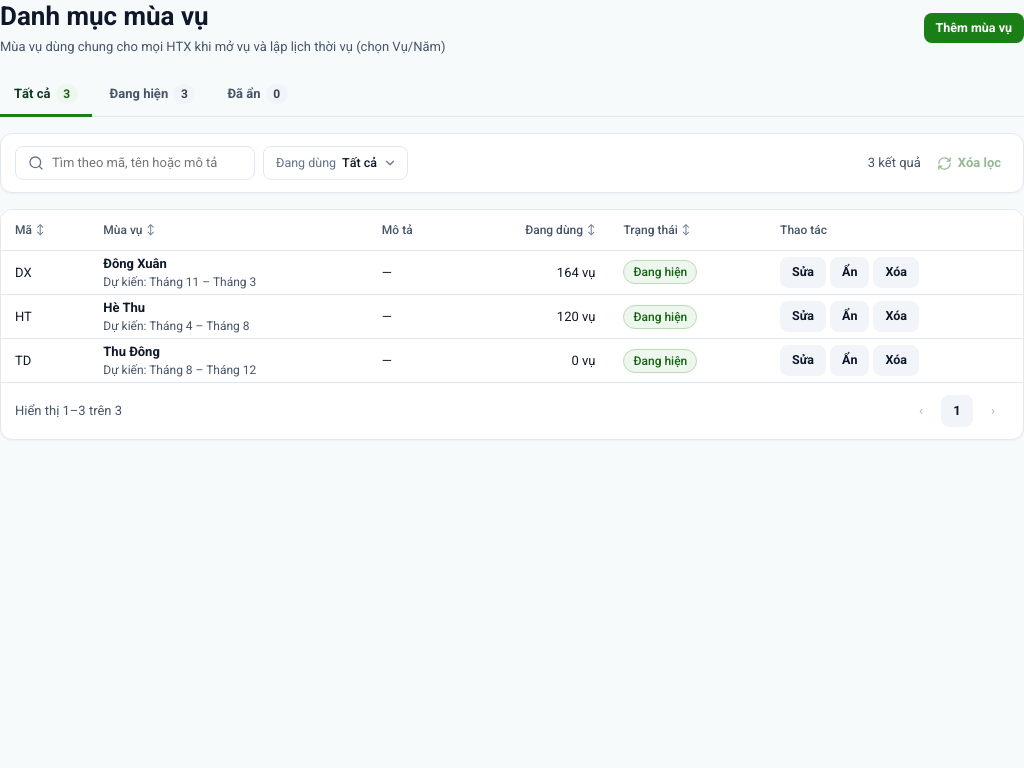
Test case: Mẫu danh sách UX-01 (AH-292) › ẩn một mùa vụ: số trên tab đổi; tab Đã ẩn chỉ còn mùa vụ đó
Click the button with aria-label "Ẩn Thu Đông".
click(850, 360)  # box top-left (830, 345), bottom-right (870, 376)
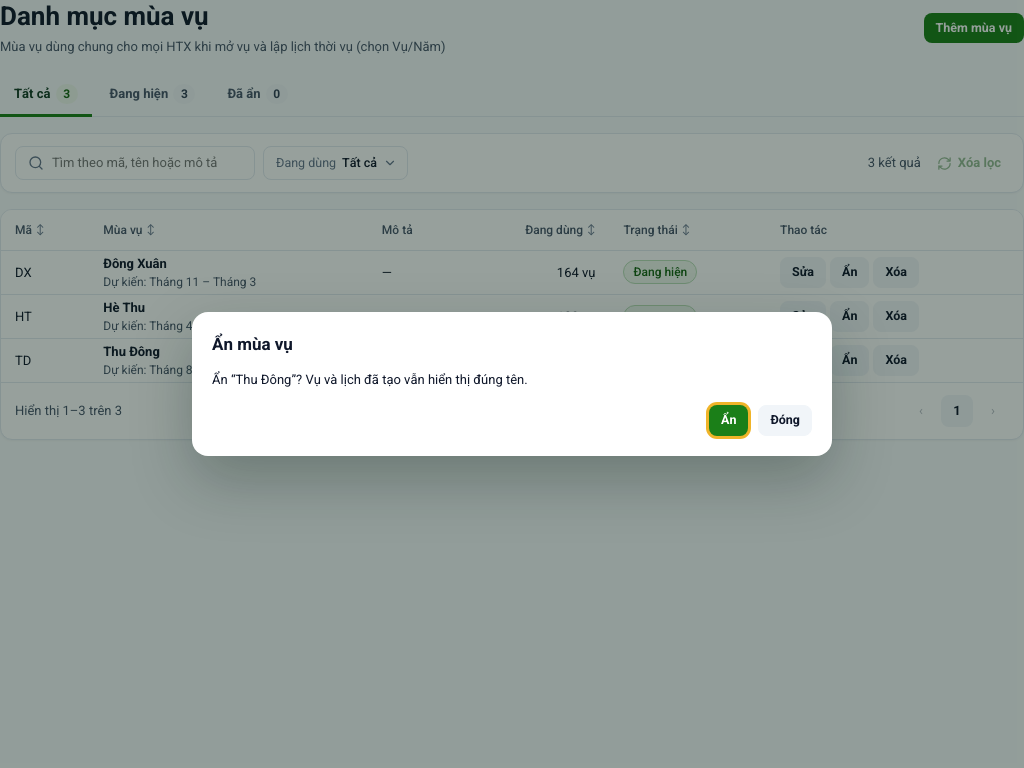
Click the button "Ẩn".
click(729, 420)  # box top-left (709, 405), bottom-right (748, 436)
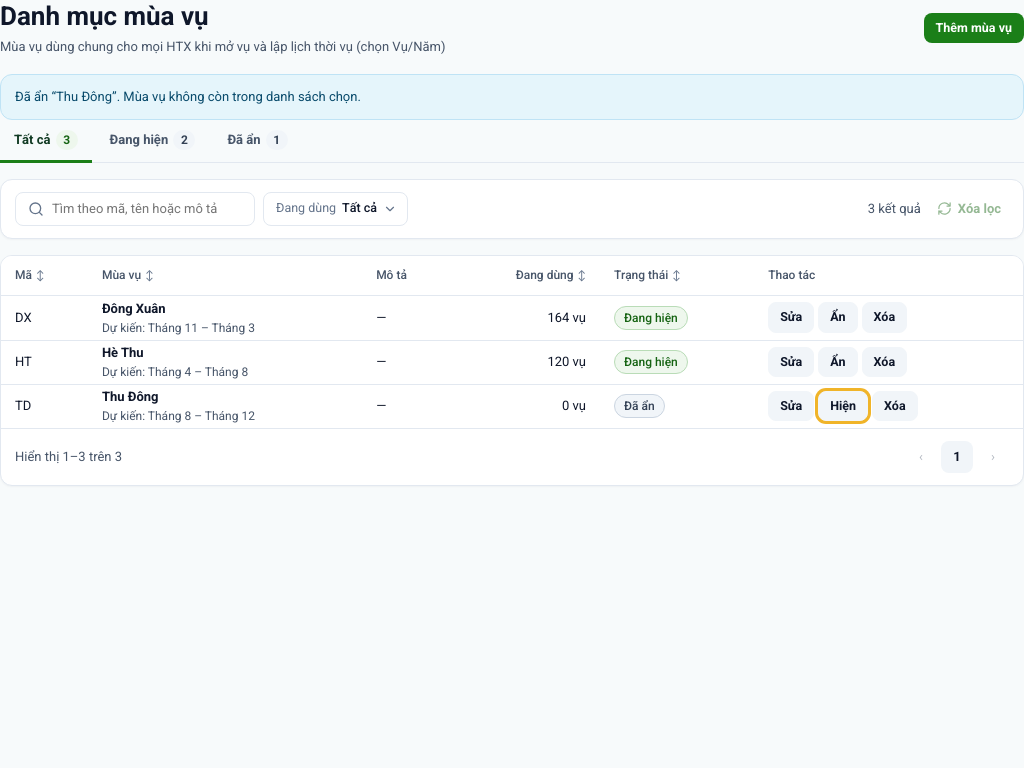
Expected: the tab "Đang hiện 2" is shown, top-left (96, 120), bottom-right (209, 162)
Expected: the tab "Đã ẩn 1" is shown
Click the tab "Đã ẩn 1".
click(258, 141)  # box top-left (213, 120), bottom-right (302, 162)
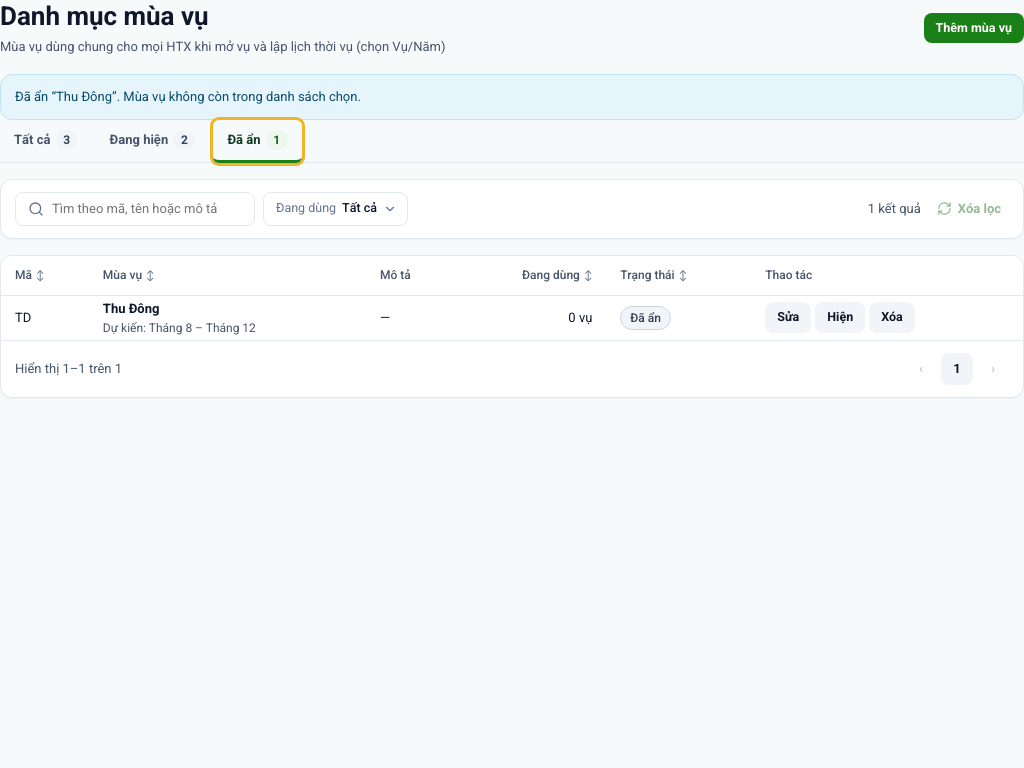
Expected: the button "Thu Đông" is shown, top-left (103, 299), bottom-right (159, 318)
Expected: the button "Đông Xuân" is gone
